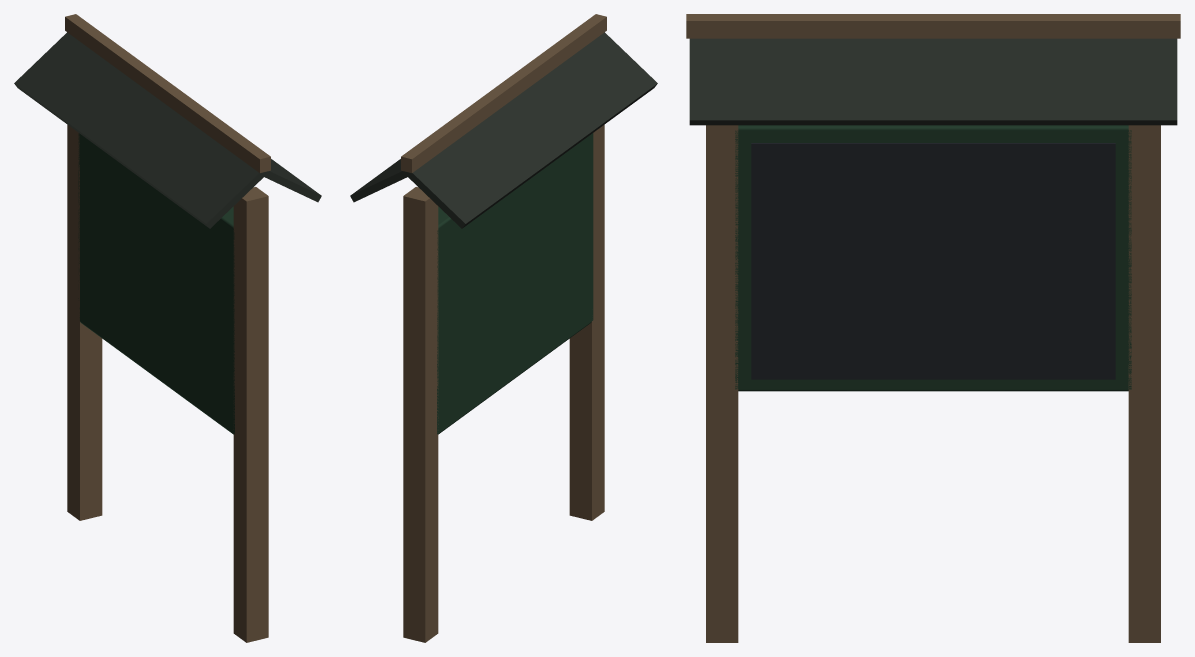
File: SM_Prop_notice_board_0.glb
3 renders of one model, left to right at view 1: azimuth 30°, elevation 25°; view 2: azimuth 150°, elevation 25°; view 3: azimuth 270°, elevation 25°, orthographic. The views are drawn at different scales.
Visible parts, largest first — view 1: SM_Prop_notice_board_0; view 2: SM_Prop_notice_board_0; view 3: SM_Prop_notice_board_0.
Boxes of the visible parts, box(x1,y1,x2,y2) form: SM_Prop_notice_board_0: box(14, 14, 321, 642); SM_Prop_notice_board_0: box(350, 14, 657, 642); SM_Prop_notice_board_0: box(686, 14, 1180, 642).
Size of the model in its own units: 0.521 by 2.1 by 1.52.
